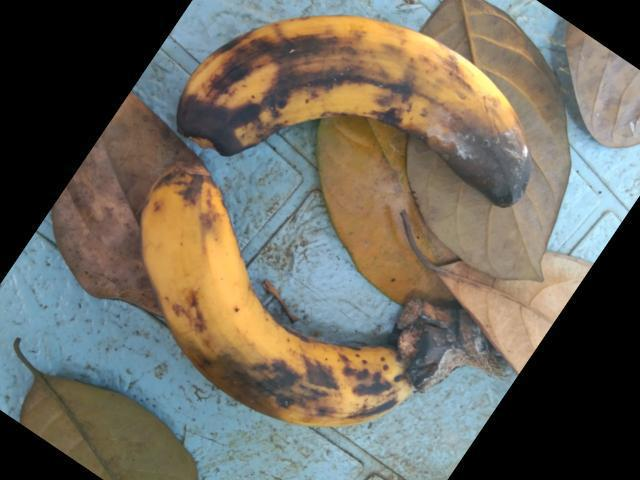rotten: (100, 173, 458, 453), (166, 3, 536, 199)
